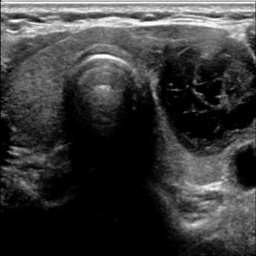mass: (156, 38, 254, 154)
